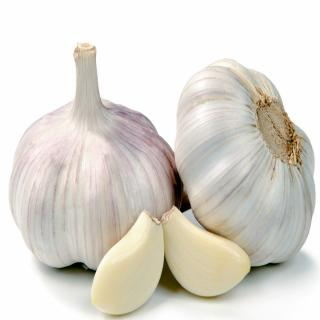Bawang Putih: (10, 40, 315, 318)
